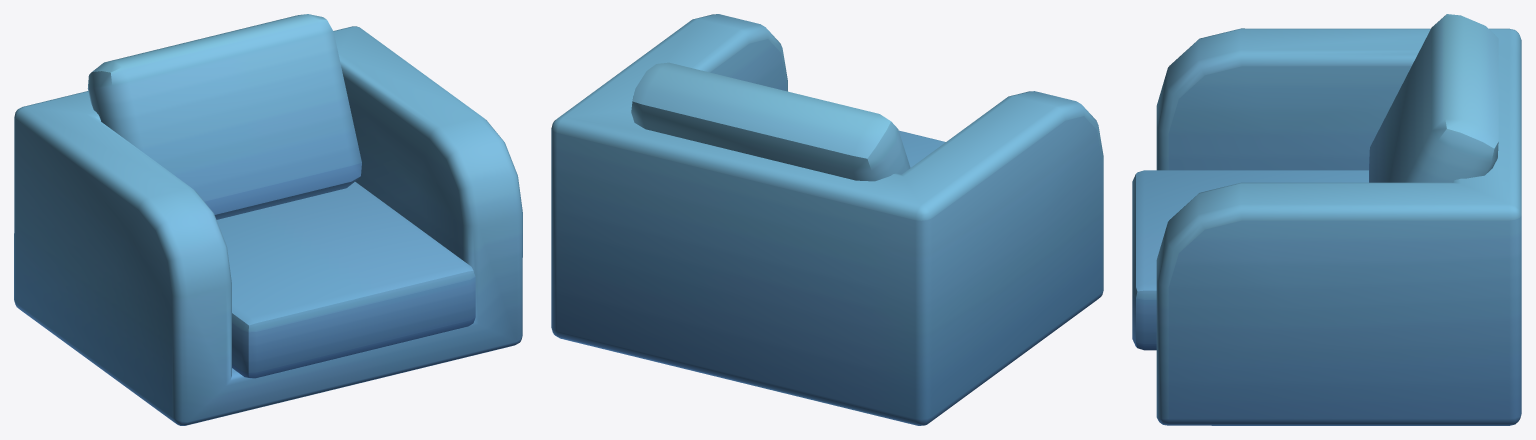
Rendered from armchair.glb.
3 renders of one model, left to right at view 1: azimuth 30°, elevation 25°; view 2: azimuth 150°, elevation 25°; view 3: azimuth 270°, elevation 25°, orthographic. The views are drawn at different scales.
Parts seen in each view (by area): view 1: armchair; view 2: armchair; view 3: armchair.
Part boxes in pixels (x1=…): armchair: x1=14, y1=14, x2=522, y2=425; armchair: x1=551, y1=14, x2=1103, y2=425; armchair: x1=1132, y1=14, x2=1521, y2=425.
Bounding box in the file's own units: 1.8 × 1.22 × 1.6.
Materials: 1 (1 with a texture image).
